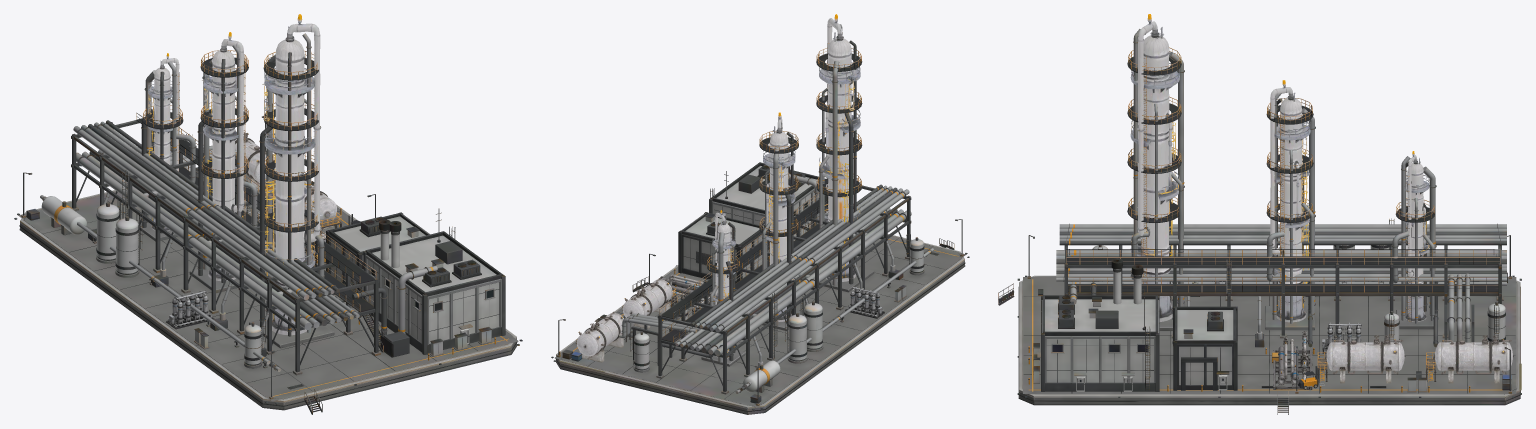
The model's file is refinery.lite.glb.
The picture shows the model from 3 angles, left to right: view 1: azimuth 30°, elevation 25°; view 2: azimuth 150°, elevation 25°; view 3: azimuth 270°, elevation 25°; orthographic projection. The views are drawn at different scales.
Parts seen in each view (by area): view 1: hull, parts_colony-distColumn, parts_colony-htankSkid, parts_colony-filterBank; view 2: hull, parts_colony-distColumn, parts_colony-htankSkid, parts_colony-filterBank, parts_colony-manifoldSkid; view 3: hull, parts_colony-distColumn, parts_colony-htankSkid, parts_colony-manifoldSkid, parts_colony-filterBank.
Boxes of the visible parts, x1,y1,x2,y2 form: hull: [14, 33, 522, 414]; parts_colony-distColumn: [147, 14, 321, 335]; parts_colony-htankSkid: [235, 130, 341, 233]; parts_colony-filterBank: [166, 209, 274, 329]; hull: [551, 24, 969, 414]; parts_colony-distColumn: [712, 14, 860, 358]; parts_colony-htankSkid: [577, 278, 676, 362]; parts_colony-filterBank: [692, 287, 884, 318]; parts_colony-manifoldSkid: [660, 274, 711, 308]; hull: [998, 29, 1521, 414]; parts_colony-distColumn: [1130, 14, 1429, 322]; parts_colony-htankSkid: [1317, 335, 1513, 383]; parts_colony-manifoldSkid: [1273, 331, 1312, 389]; parts_colony-filterBank: [1213, 281, 1364, 353].
Size of the model in its own units: 45.28 by 51.77 by 77.28.
7 materials, 7 textured.
